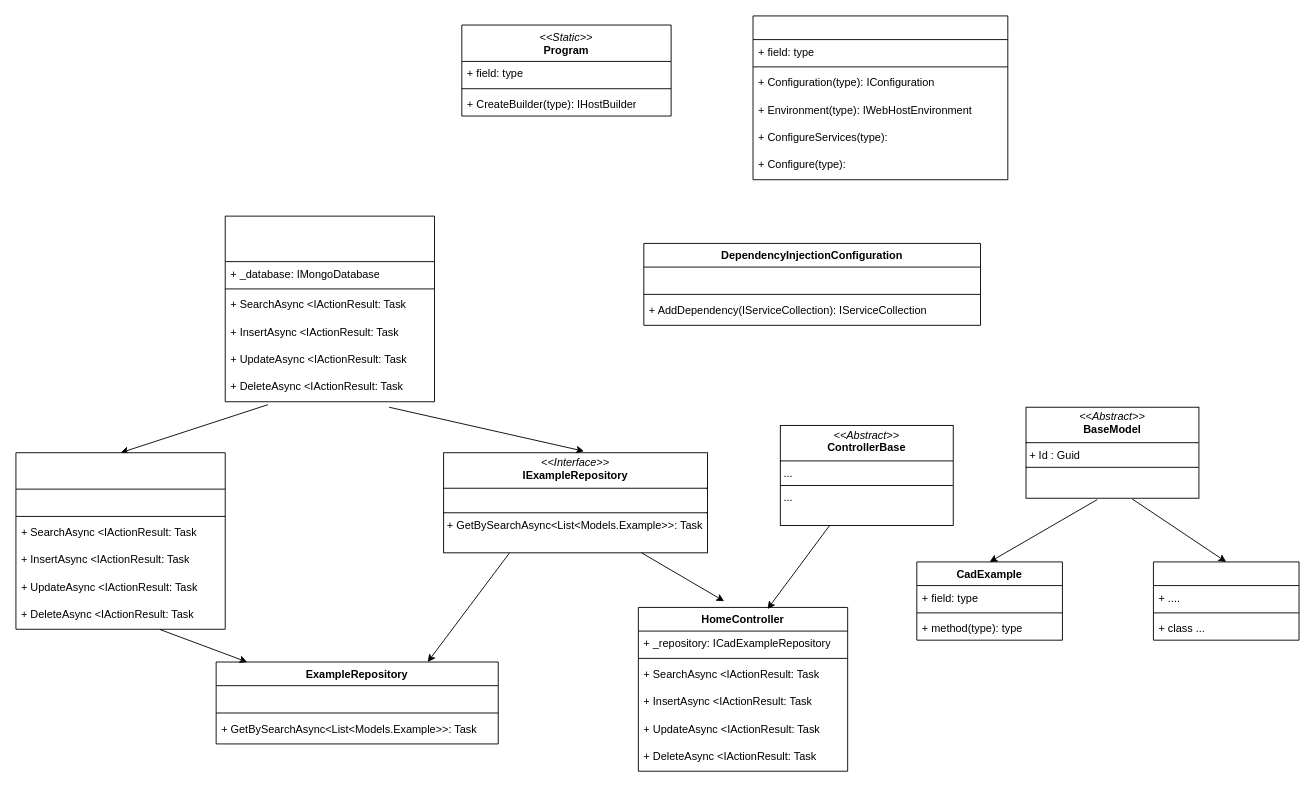
The diagram is 1315 pixels wide and 790 high, and some of its shapes have lost their labels. Each missing label, with the box of its shape:
<< Abstract >> MongoDBContext: (15, 452, 225, 629)
<<Interface>> IMongoDBContext: (224, 215, 435, 402)
CadExampleViewModel: (1153, 561, 1299, 640)
Startup: (752, 15, 1008, 180)
